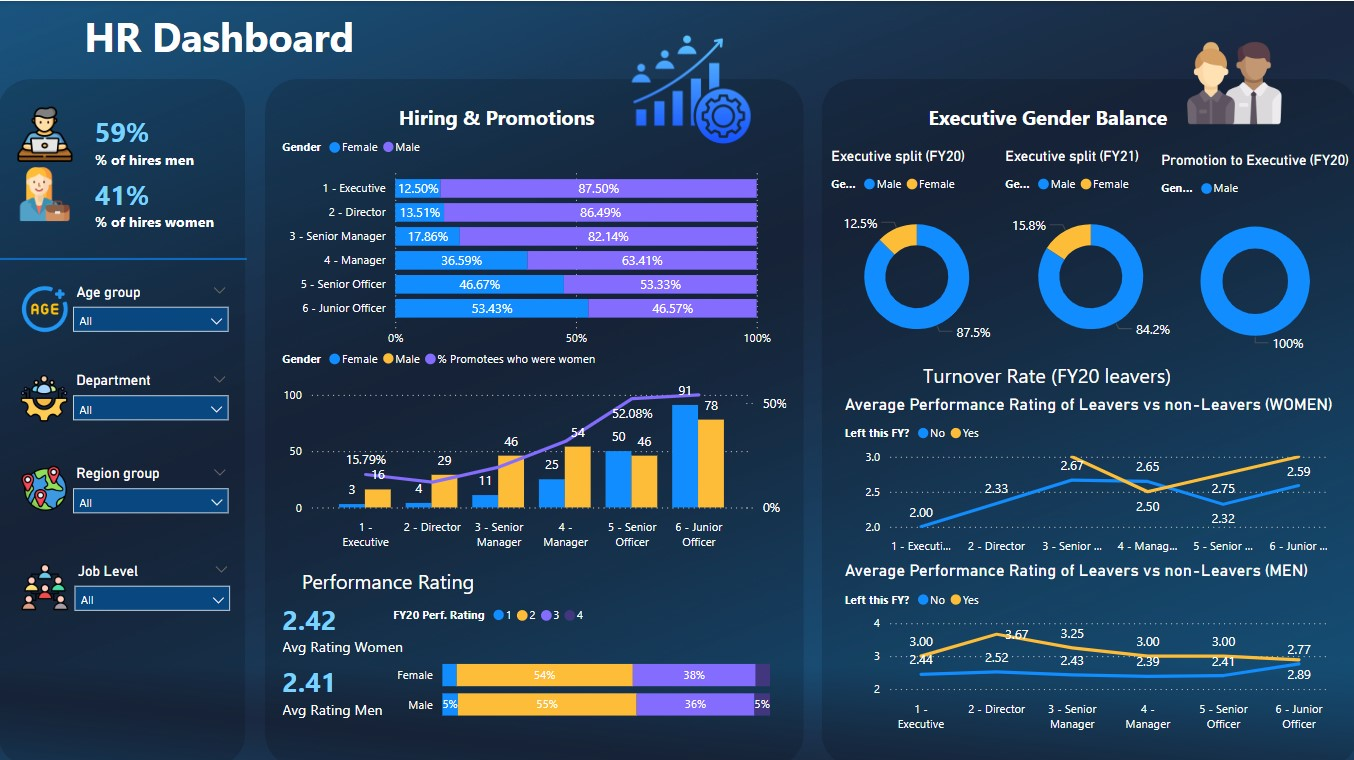

Layout of this report page (visuals, bound fields, positions):
{"tool":"powerbi","page":{"name":"HR data analysis","canvas":[1280,720],"ordinal":0},"visuals":[{"type":"shape","box":[250.8,73.1,506.6,646.1],"z":0},{"type":"shape","box":[0,73.1,232.5,646.1],"z":1000},{"type":"shape","box":[774,73.1,504.9,646.1],"z":2000},{"type":"hundredPercentStackedBarChart","fields":{"Series":["HR Manager.Gender"],"Y":["CountNonNull(HR Manager.Employee ID)"],"Category":["HR Manager.Job Level after FY20 promotions"]},"box":[262.3,118.4,469.5,215.7],"z":3000},{"type":"lineClusteredColumnComboChart","fields":{"Y":["CountNonNull(HR Manager.Employee ID)"],"Series":["HR Manager.Gender"],"Category":["HR Manager.Job Level after FY21 promotions"],"Y2":["_Measures.% Promotees who were women"]},"box":[262.3,317.2,483.6,205.9],"z":4000},{"type":"textbox","box":[76.4,3.3,355.4,61.5],"z":5000},{"type":"multiRowCard","fields":{"Values":["_Measures.% of hires men","_Measures.% of hires women"]},"box":[86.4,99.7,141.2,161.1],"z":6000},{"type":"slicer","fields":{"Values":["HR Manager.Last Department in FY20"]},"box":[61.1,344.6,166,54.8],"z":7000},{"type":"slicer","fields":{"Values":["HR Manager.Job Level after FY20 promotions"]},"box":[62.3,522.4,166.2,55.9],"z":8000},{"type":"slicer","fields":{"Values":["HR Manager.Age group"]},"box":[61.1,260.7,166,55.9],"z":9000},{"type":"slicer","fields":{"Values":["HR Manager.Broad region group: nationality 1"]},"box":[60.7,431.4,166.2,55.9],"z":10000},{"type":"image","box":[12.8,84.7,62.3,81.5],"z":11000},{"type":"image","box":[12.8,150.2,62.3,60.7],"z":12000},{"type":"image","box":[12.8,262,62.3,54.3],"z":13000},{"type":"shape","box":[0,214.8,234.3,56.4],"z":14000},{"type":"image","box":[12.8,345.1,60.7,55.9],"z":15000},{"type":"image","box":[12.8,431.4,60.7,52.7],"z":16000},{"type":"image","box":[12.8,522.4,60.7,55.9],"z":17000},{"type":"lineChart","title":"Average Performance Rating of Leavers vs non-Leavers (WOMEN)","fields":{"Category":["HR Manager.Job Level after FY20 promotions"],"Y":["Avg(HR Manager.FY19 Performance Rating)"],"Series":["HR Manager.FY20 leaver?"]},"box":[790.6,368.7,471.7,157.8],"z":18000},{"type":"lineChart","title":"Average Performance Rating of Leavers vs non-Leavers (MEN)","fields":{"Category":["HR Manager.Job Level after FY20 promotions"],"Y":["Avg(HR Manager.FY19 Performance Rating)"],"Series":["HR Manager.FY20 leaver?"]},"box":[790.6,526.5,471.7,167.8],"z":19000},{"type":"donutChart","title":"Executive split (FY21)","fields":{"Category":["HR Manager.Gender"],"Y":["CountNonNull(HR Manager.Employee ID)"]},"box":[941.7,137.9,170,200],"z":20000},{"type":"donutChart","title":"Executive split (FY20)","fields":{"Category":["HR Manager.Gender"],"Y":["CountNonNull(HR Manager.Employee ID)"]},"box":[779,137.9,170,200],"z":21000},{"type":"donutChart","title":"Promotion to Executive (FY20)","fields":{"Category":["HR Manager.Gender"],"Y":["CountNonNull(HR Manager.Employee ID)"]},"box":[1088.5,142.4,186.1,200.2],"z":22000},{"type":"multiRowCard","fields":{"Values":["_Measures.Avg Rating Women","_Measures.Avg Rating Men"]},"box":[262.4,558.1,129.6,142.8],"z":23000},{"type":"hundredPercentStackedBarChart","fields":{"Series":["HR Manager.FY20 Performance Rating"],"Category":["HR Manager.Gender"],"Y":["CountNonNull(HR Manager.Employee ID)"]},"box":[367.1,558.1,365.4,144.5],"z":24000},{"type":"textbox","box":[367.1,91.4,315.6,34.9],"z":25000},{"type":"textbox","box":[863.7,333.8,317.2,68.1],"z":26000},{"type":"textbox","box":[863.7,91.4,300.6,69.8],"z":27000},{"type":"textbox","box":[280.6,527.3,301.7,45.1],"z":28000},{"type":"image","box":[1112.5,26.8,98.7,100.1],"z":31000},{"type":"image","box":[586.3,3.3,129.6,161.1],"z":32000}]}

Visuals, with their boxes in screenshot pixels (x1, y1, x2, y2), scaled from the page's 1280x720 canvas onto the 1354x760 screenshot:
shape: (265,77,801,759)
shape: (0,77,246,759)
shape: (819,77,1353,759)
hundredPercentStackedBarChart - HR Manager.Gender x CountNonNull(HR Manager.Employee ID): (277,125,774,353)
lineClusteredColumnComboChart - CountNonNull(HR Manager.Employee ID) x HR Manager.Gender: (277,335,789,552)
textbox: (81,3,457,68)
multiRowCard - _Measures.% of hires men x _Measures.% of hires women: (91,105,241,275)
slicer - HR Manager.Last Department in FY20: (65,364,240,422)
slicer - HR Manager.Job Level after FY20 promotions: (66,551,242,610)
slicer - HR Manager.Age group: (65,275,240,334)
slicer - HR Manager.Broad region group: nationality 1: (64,455,240,514)
image: (14,89,79,175)
image: (14,159,79,223)
image: (14,277,79,334)
shape: (0,227,248,286)
image: (14,364,78,423)
image: (14,455,78,511)
image: (14,551,78,610)
"Average Performance Rating of Leavers vs non-Leavers (WOMEN)" lineChart: (836,389,1335,556)
"Average Performance Rating of Leavers vs non-Leavers (MEN)" lineChart: (836,556,1335,733)
"Executive split (FY21)" donutChart: (996,146,1176,357)
"Executive split (FY20)" donutChart: (824,146,1004,357)
"Promotion to Executive (FY20)" donutChart: (1151,150,1348,362)
multiRowCard - _Measures.Avg Rating Women x _Measures.Avg Rating Men: (278,589,415,740)
hundredPercentStackedBarChart - HR Manager.FY20 Performance Rating x HR Manager.Gender: (388,589,775,742)
textbox: (388,96,722,133)
textbox: (914,352,1249,424)
textbox: (914,96,1232,170)
textbox: (297,557,616,604)
image: (1177,28,1281,134)
image: (620,3,757,174)
